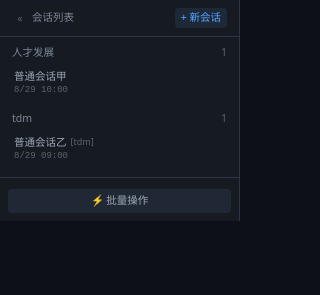
Test: T-1041 开关记忆 + 退出批量恢复隐藏
The image size is (320, 295).
Click the button titled "进入批量操作：勾选多个会话归档/恢复" at {"x": 120, "y": 201}, box [8,189,231,213]
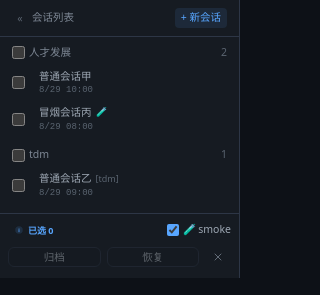
Expected: the text "冒烟会话丙" is shown, [39,105,92,121]
Click the button titled "退出批量操作" at {"x": 218, "y": 257}, box [205,244,231,270]
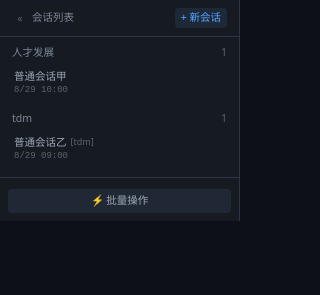
Expected: the button "冒烟会话丙" is gone
